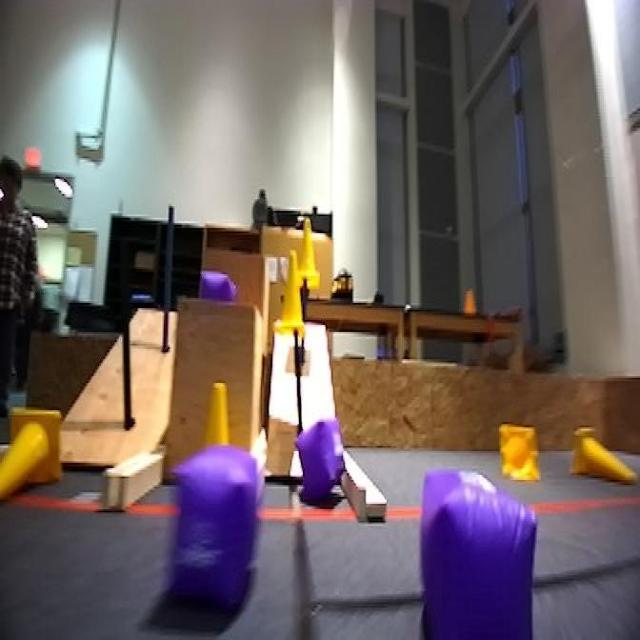frc_cone: (0, 405, 64, 514), (572, 429, 632, 483), (195, 373, 238, 444), (490, 422, 540, 478), (278, 270, 313, 346), (296, 220, 320, 294)
frc_cube: (417, 475, 535, 640), (155, 438, 259, 616), (299, 412, 351, 507), (198, 272, 235, 308)
